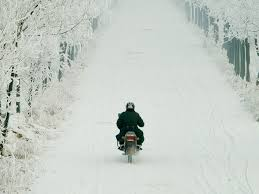motorcycle: (116, 117, 147, 159)
